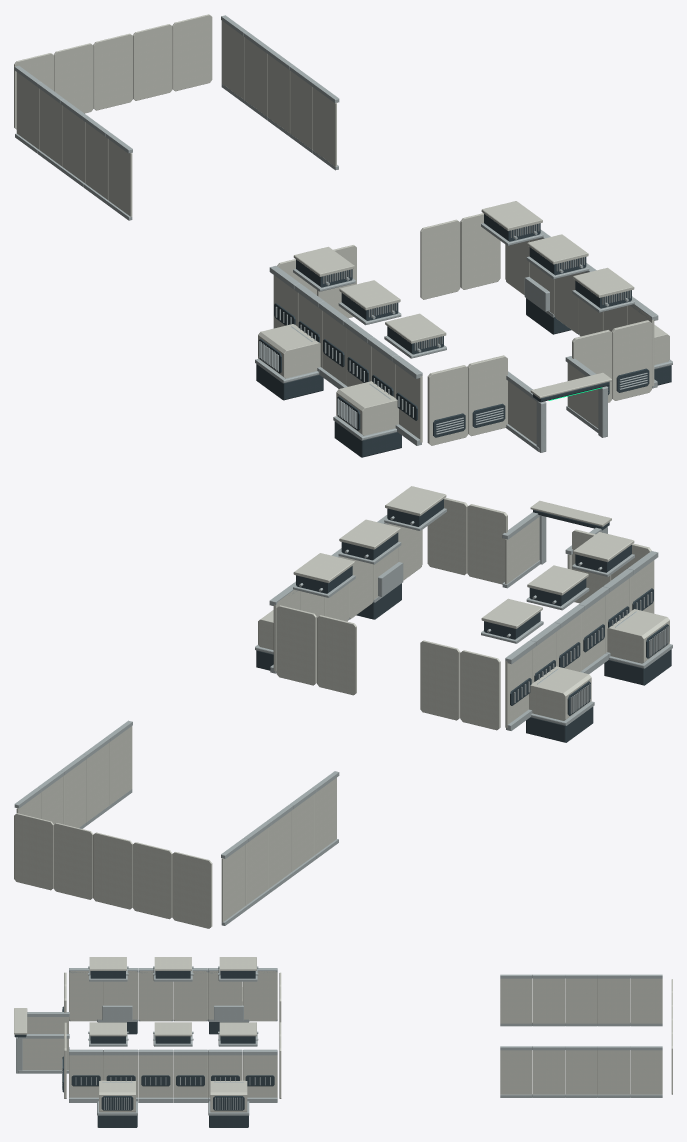
Rendered from genesis-exterior.glb.
3 renders of one model, top to bottom at view 1: azimuth 30°, elevation 25°; view 2: azimuth 150°, elevation 25°; view 3: azimuth 270°, elevation 25°, orthographic. The views are drawn at different scales.
Parts seen in each view (by area): view 1: master-exterior__composite, master-exterior__titanium, master-exterior__graphite; view 2: master-exterior__composite, master-exterior__titanium, master-exterior__graphite; view 3: master-exterior__composite, master-exterior__titanium, master-exterior__graphite.
Boxes of the visible parts, x1,y1,x2,y2 form: master-exterior__composite: (14,14,669,445); master-exterior__titanium: (14,15,672,452); master-exterior__graphite: (256,214,671,457); master-exterior__composite: (14,486,669,928); master-exterior__titanium: (14,508,672,925); master-exterior__graphite: (256,499,671,742); master-exterior__composite: (14,957,672,1112); master-exterior__titanium: (16,966,662,1115); master-exterior__graphite: (14,971,274,1127).
Bounding box in the file's own units: 22.14 × 7.48 × 56.82.
Materials: 4 (3 with a texture image).
